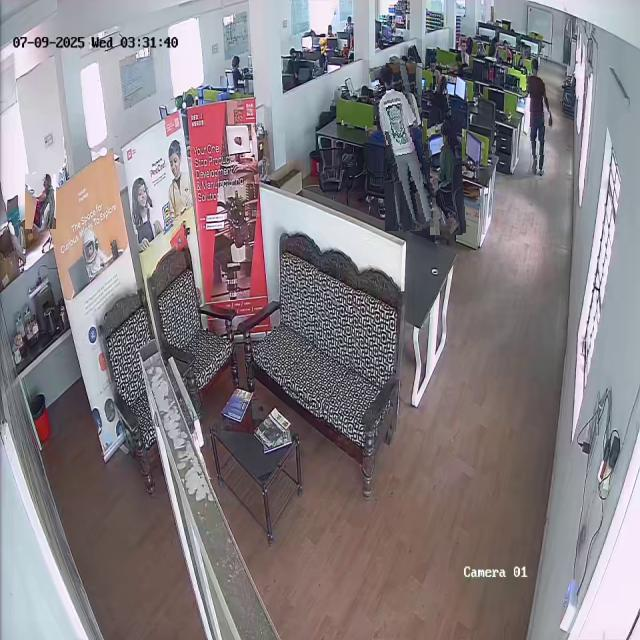person: (377, 62, 430, 232), (522, 58, 558, 180), (429, 121, 464, 235), (26, 174, 58, 229)
